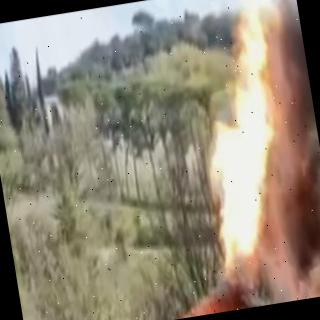smoke: (243, 0, 320, 301)
